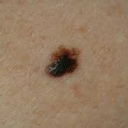Melanoma: (43, 48, 78, 79)
